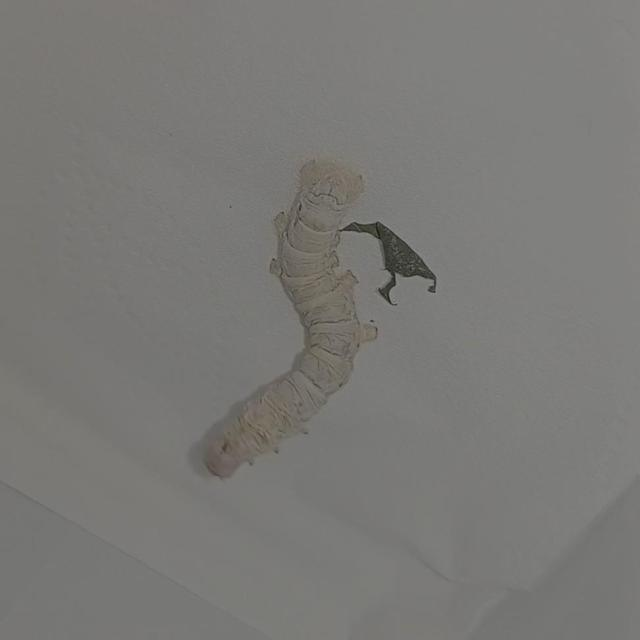Healthy: (157, 116, 396, 500)
